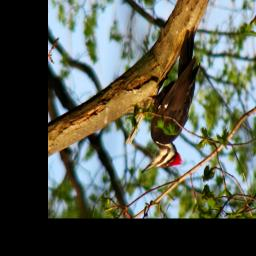Woodpecker: (137, 26, 202, 177)
